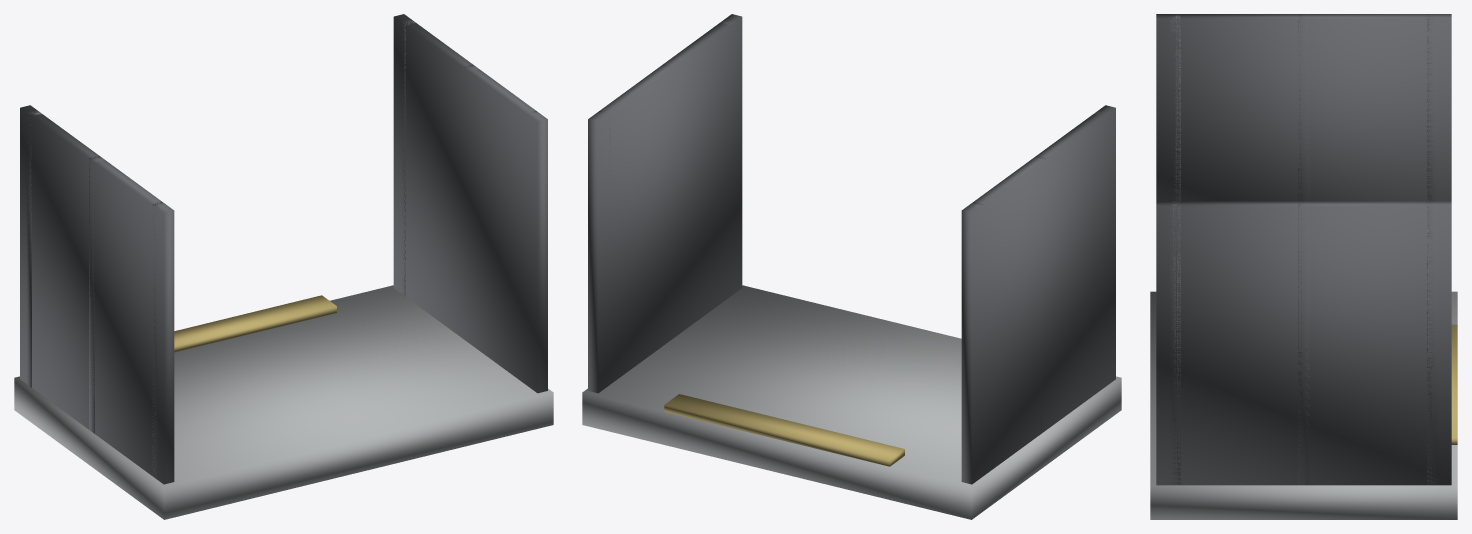
The model's file is floor_w150_d100_sides.glb.
The picture shows the model from 3 angles, left to right: view 1: azimuth 30°, elevation 25°; view 2: azimuth 150°, elevation 25°; view 3: azimuth 270°, elevation 25°; orthographic projection. The views are drawn at different scales.
Parts seen in each view (by area): view 1: world; view 2: world; view 3: world.
Boxes of the visible parts, left/top/right/bottom form: world: left=14, top=14, right=553, bottom=519; world: left=582, top=14, right=1121, bottom=519; world: left=1150, top=14, right=1457, bottom=519.
Size of the model in its own units: 1.5 by 1.12 by 1.
